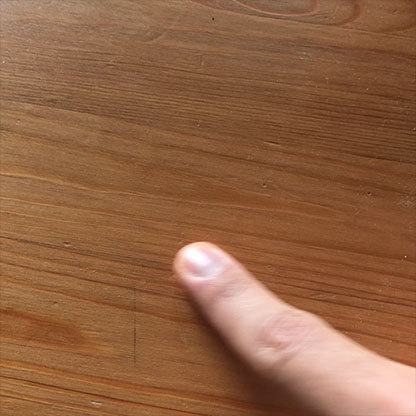fingertip: (171, 229, 251, 299)
